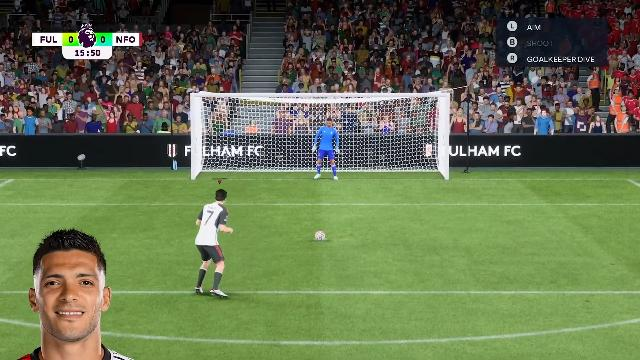circle: (312, 240, 330, 240)
football: (314, 231, 328, 241)
goal-bottom-left: (196, 139, 274, 179)
goal-bottom-right: (366, 139, 444, 179)
goal-middle-down: (275, 139, 365, 179)
goal-middle-up: (274, 96, 364, 138)
goal-top-left: (194, 96, 274, 138)
goal-top-right: (366, 98, 444, 138)
goalkeeper: (312, 116, 340, 182)
player: (192, 188, 234, 300)
